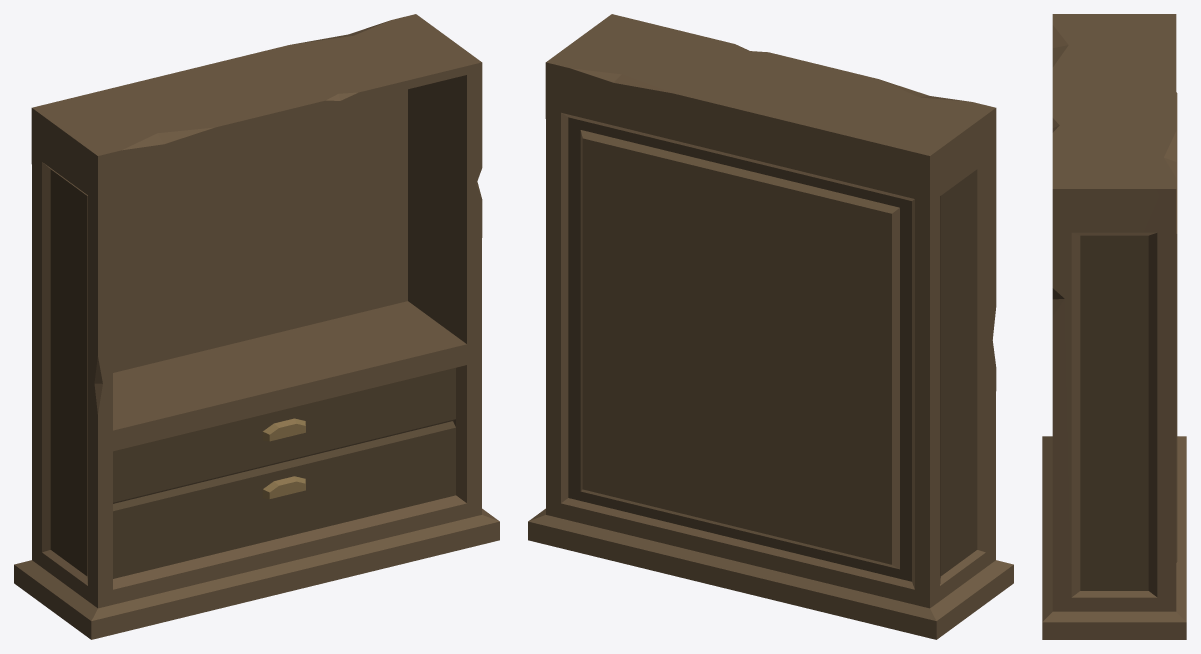
Rendered from SM_Prop_Shelf_05_StandingFix.obj.
The picture shows the model from 3 angles, left to right: view 1: azimuth 30°, elevation 25°; view 2: azimuth 150°, elevation 25°; view 3: azimuth 270°, elevation 25°; orthographic projection. The views are drawn at different scales.
Parts seen in each view (by area): view 1: SM_Prop_Shelf_05_StandingFix_Mat_SwatchOverlay_PolygonOffice_01_; view 2: SM_Prop_Shelf_05_StandingFix_Mat_SwatchOverlay_PolygonOffice_01_; view 3: SM_Prop_Shelf_05_StandingFix_Mat_SwatchOverlay_PolygonOffice_01_.
Boxes of the visible parts, box(x1,y1,x2,y2) form: SM_Prop_Shelf_05_StandingFix_Mat_SwatchOverlay_PolygonOffice_01_: box(14, 14, 499, 639); SM_Prop_Shelf_05_StandingFix_Mat_SwatchOverlay_PolygonOffice_01_: box(528, 14, 1013, 639); SM_Prop_Shelf_05_StandingFix_Mat_SwatchOverlay_PolygonOffice_01_: box(1042, 14, 1186, 639).
Bounding box in the file's own units: 1.36 × 1.52 × 0.4476.
1 material, 1 textured.
